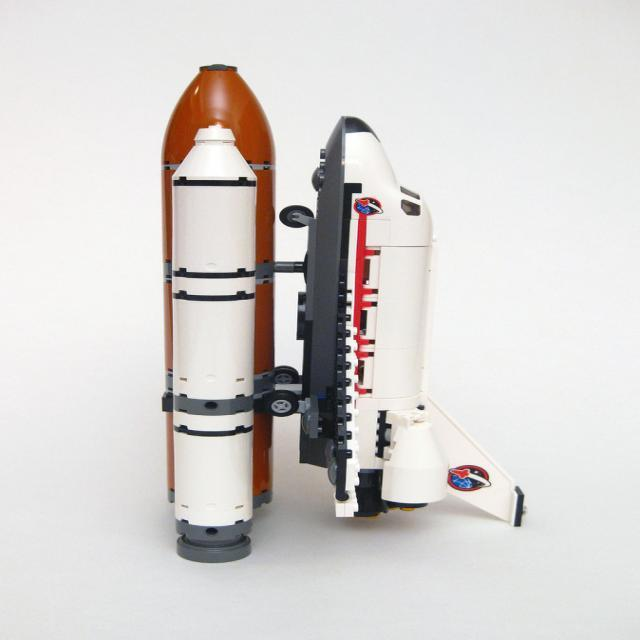Missile: (165, 119, 262, 564)
